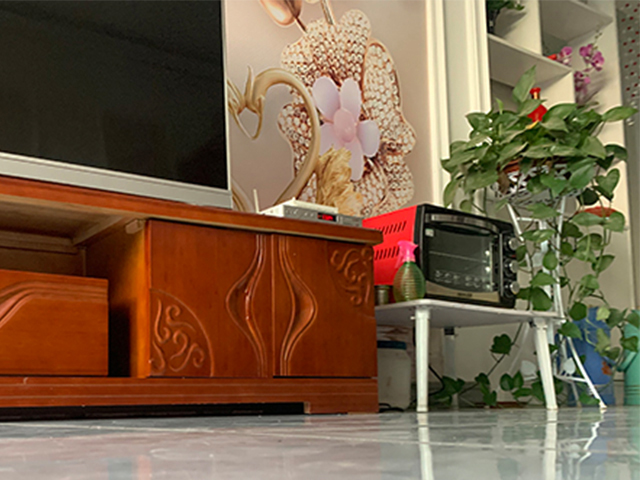cabinet: (1, 174, 384, 414)
table: (376, 299, 562, 413)
